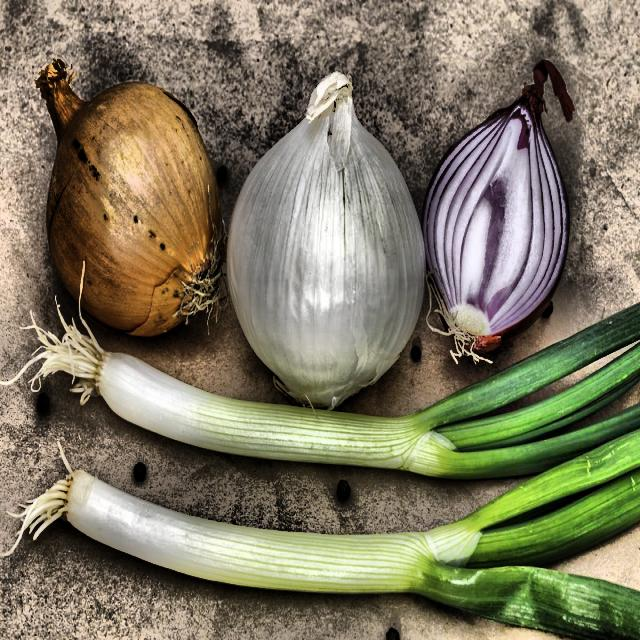onion: (32, 21, 237, 349)
